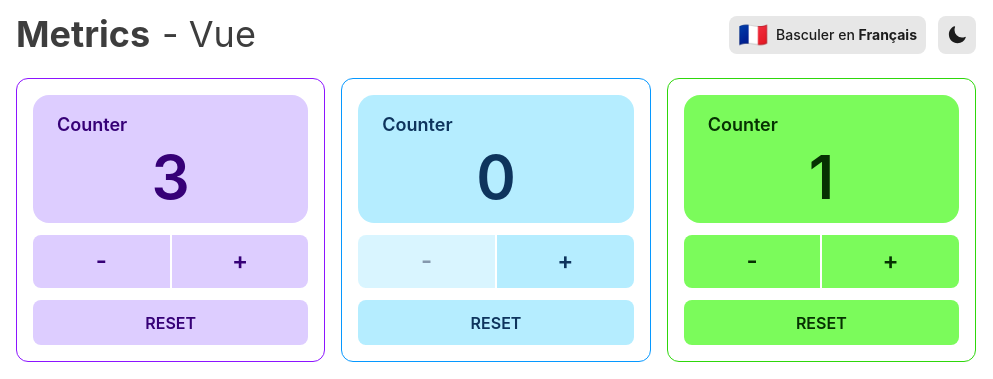
Test: Testing Vue3: › Metrics display › metrics block 1 › should increment value when clicking on +
This screenshot has width=993, height=379.
Click the button with test id "counter-increase-button". click: (241, 262)
box: [172,235,309,288]
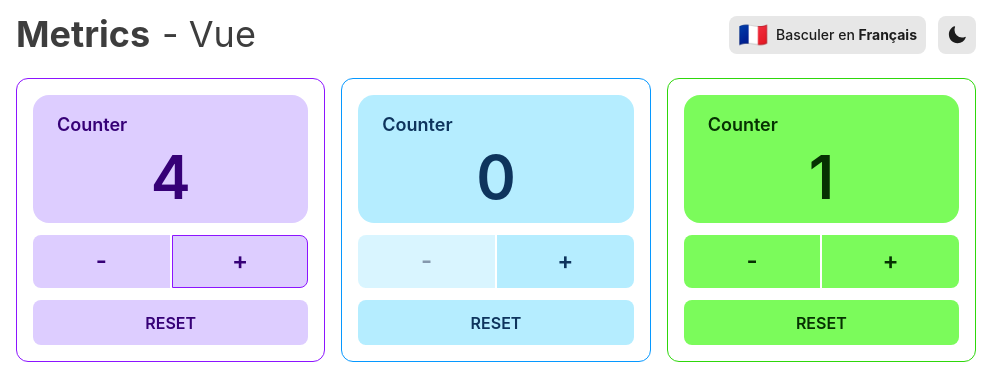
Now the text with test id "display-value" reads "4", box [151,147,191,207]
